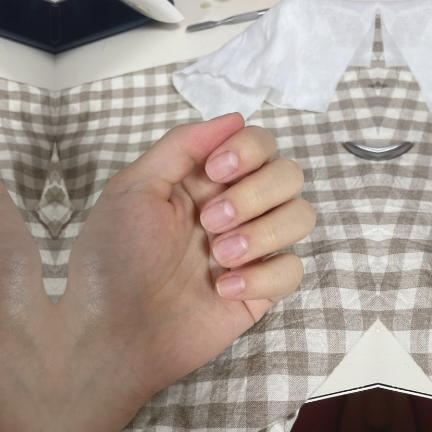Nail: (200, 200, 235, 231), (205, 151, 238, 182), (212, 234, 248, 262), (215, 275, 246, 297)
